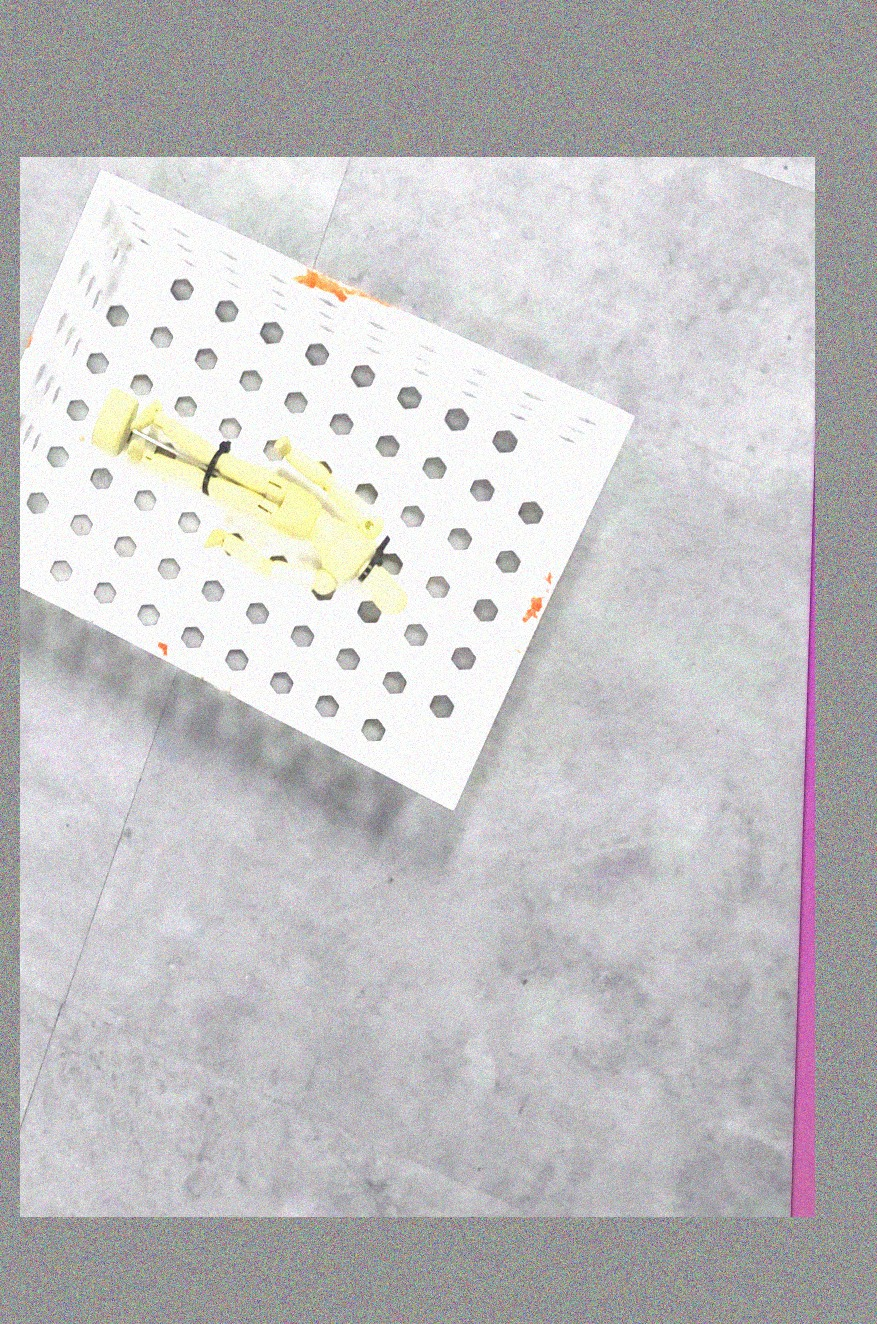basket: (22, 168, 640, 823)
mannequin: (84, 384, 422, 621)
